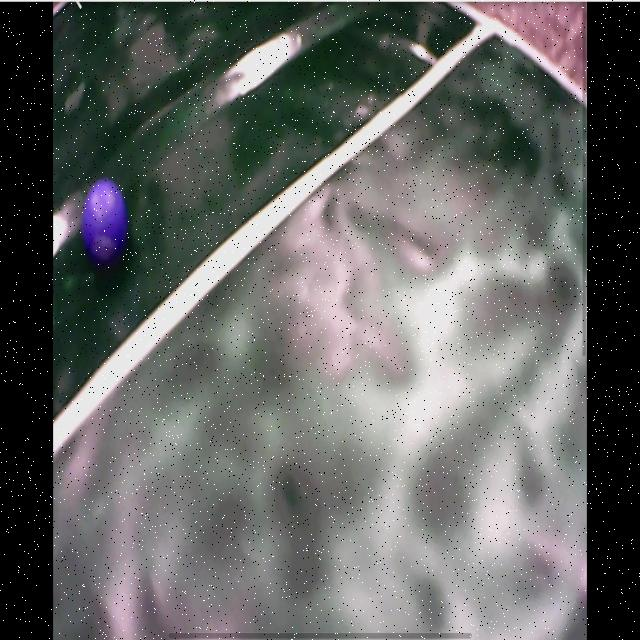ball: (84, 180, 126, 259)
